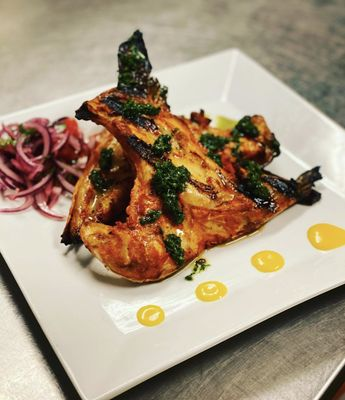curry: (152, 159, 190, 224)
